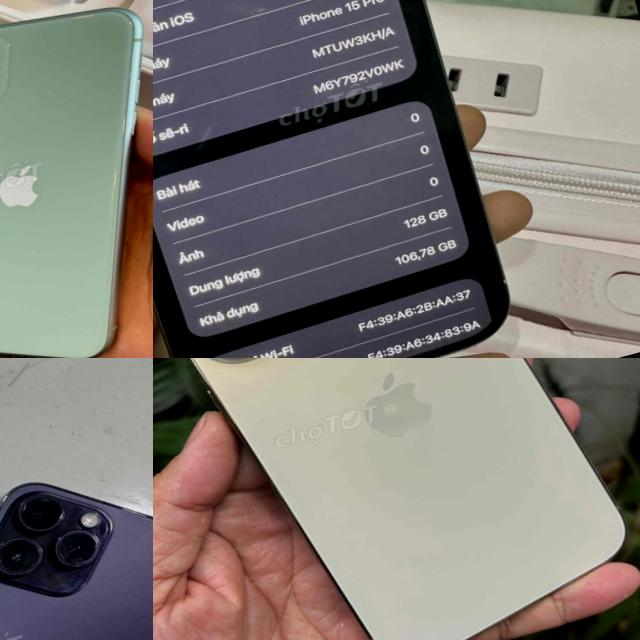gen_11: (0, 0, 153, 358)
gen_14: (153, 358, 640, 640), (0, 437, 153, 640)
gen_15: (153, 0, 537, 358)
scratch: (44, 523, 110, 580), (11, 484, 72, 542), (0, 526, 52, 586), (46, 563, 115, 602), (69, 497, 118, 546), (500, 276, 511, 288)
